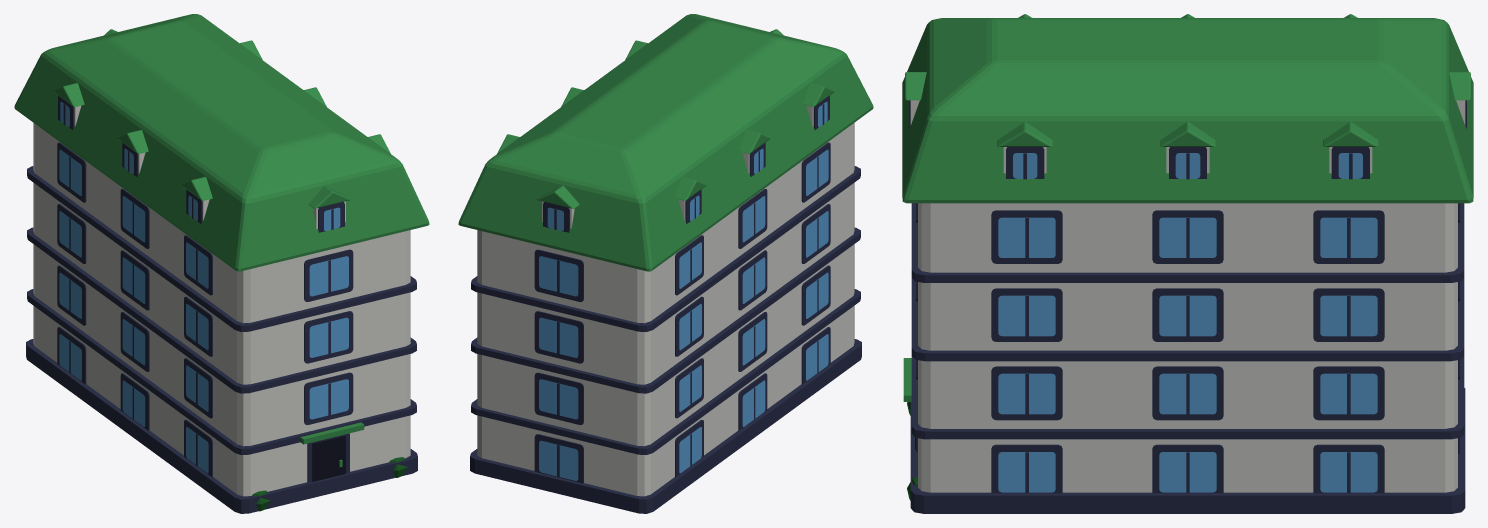
The model's file is house-1x2-4f-mansard-a.glb.
3 views of the same model, side by side, from view 1: azimuth 30°, elevation 25°; view 2: azimuth 150°, elevation 25°; view 3: azimuth 270°, elevation 25° (orthographic). The views are drawn at different scales.
Parts seen in each view (by area): view 1: house-1x2-4f-mansard-a; view 2: house-1x2-4f-mansard-a; view 3: house-1x2-4f-mansard-a.
Part boxes in pixels (box(x1,y1,x2,y2)): house-1x2-4f-mansard-a: box(14, 14, 429, 513); house-1x2-4f-mansard-a: box(458, 14, 873, 513); house-1x2-4f-mansard-a: box(902, 14, 1473, 513).
Size of the model in its own units: 0.9876 by 1.6 by 1.99.
1 material, 1 textured.
